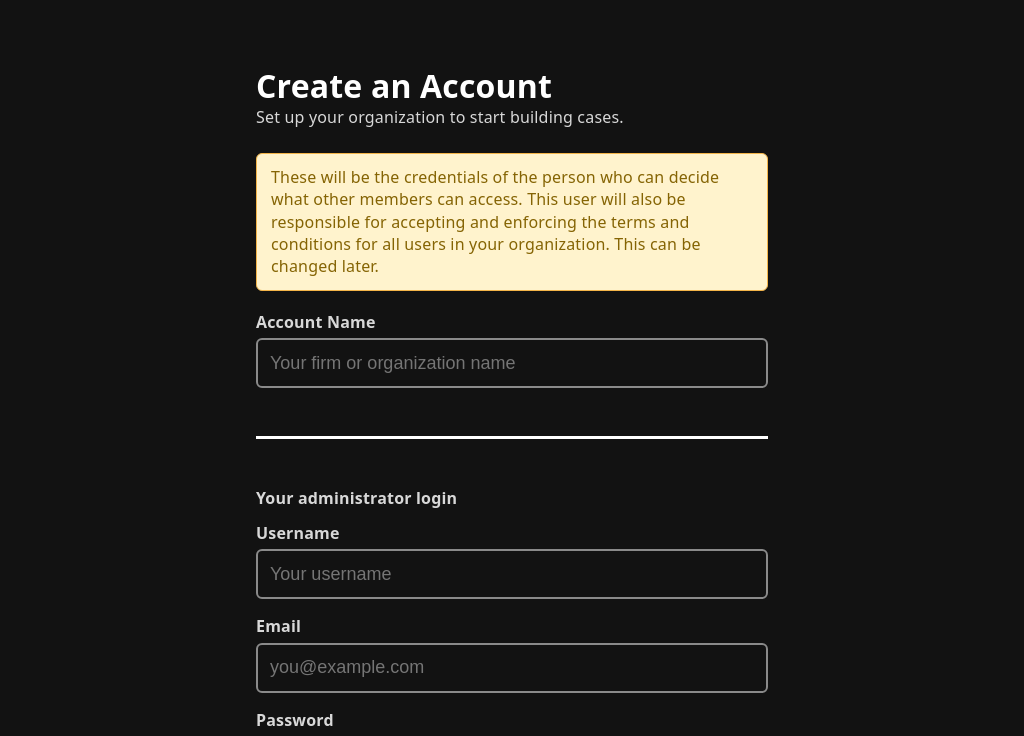
it: RegisterScreen › shows the terms before creating anything
Type "Cortes Law" into the field labelled "Account Name".
click(512, 363); type("Cortes Law")  # box [256,338,768,388]
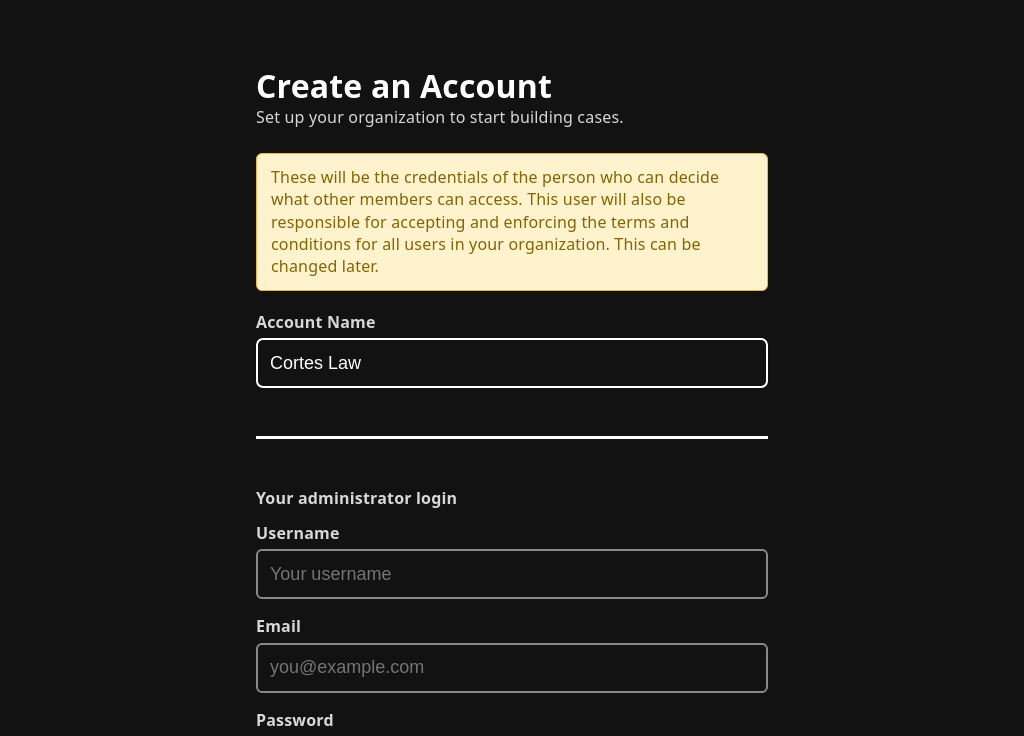
Type "founder" into the field labelled "Username".
click(512, 574); type("founder")  # box [256,549,768,599]
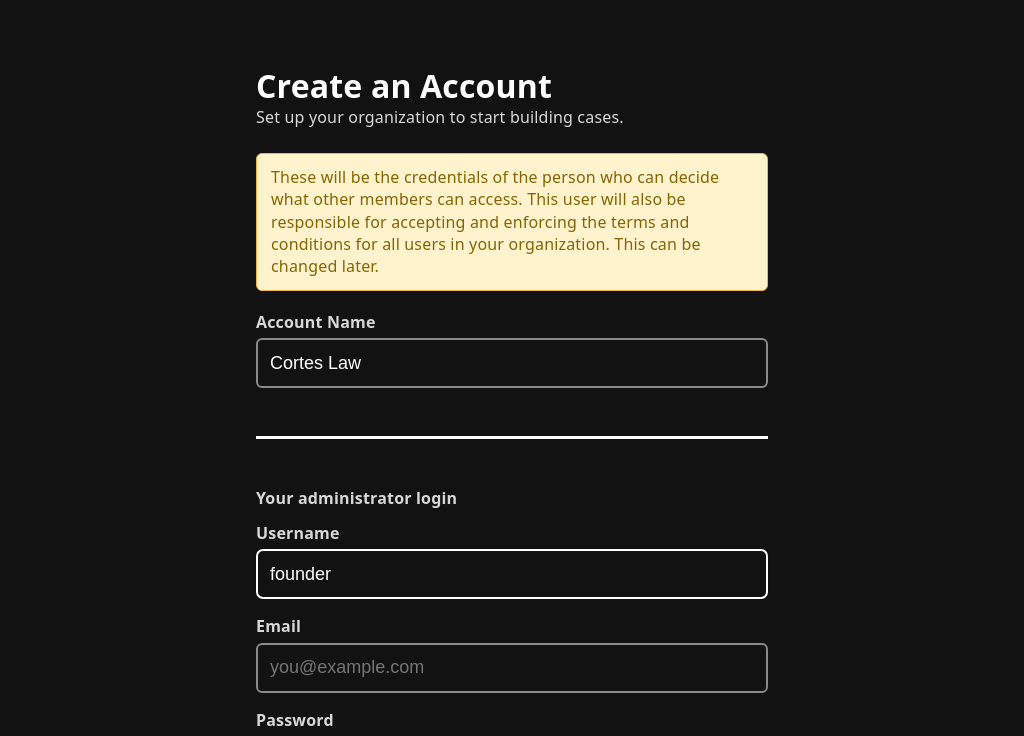
Type "founder@example.com" into the field labelled "Email".
click(512, 668); type("founder@example.com")  # box [256,643,768,693]
(page scrolled)
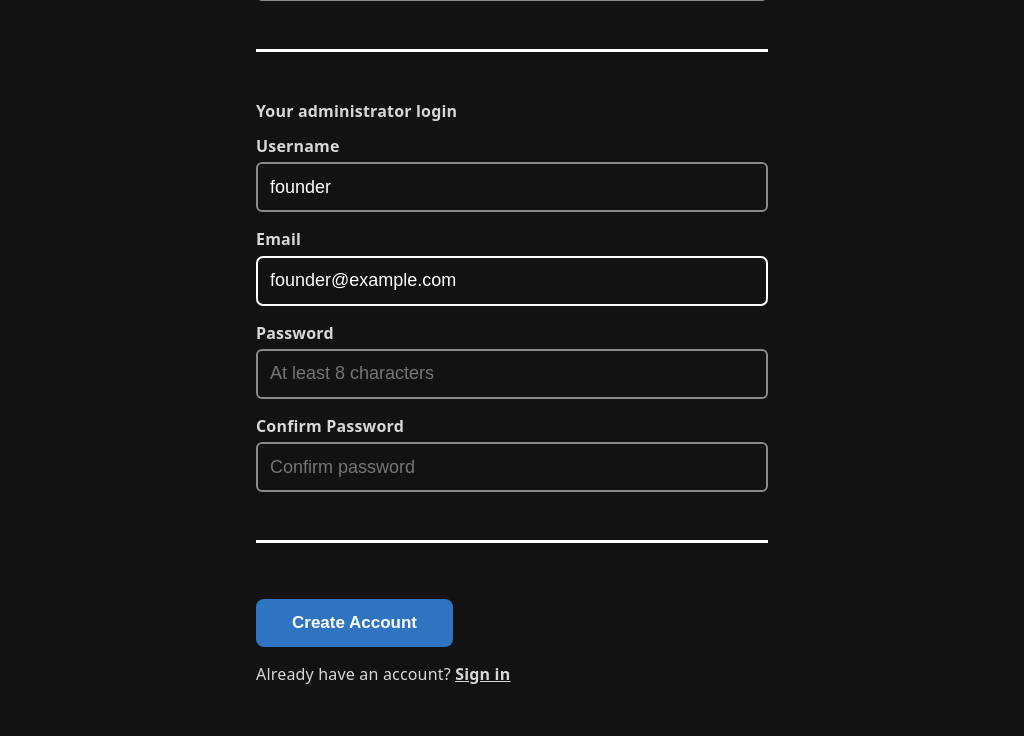
Type "founder-pass" into the password field labelled "Password".
click(512, 374); type("founder-pass")  # box [256,349,768,399]
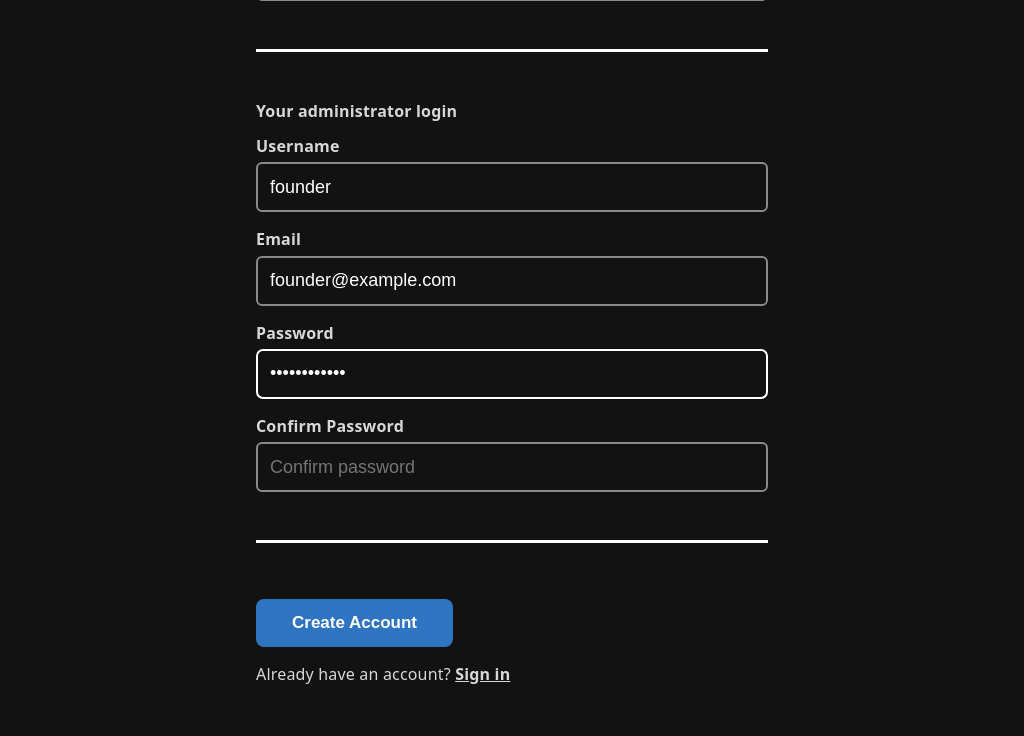
Type "founder-pass" into the password field labelled "Confirm Password".
click(512, 467); type("founder-pass")  # box [256,442,768,492]
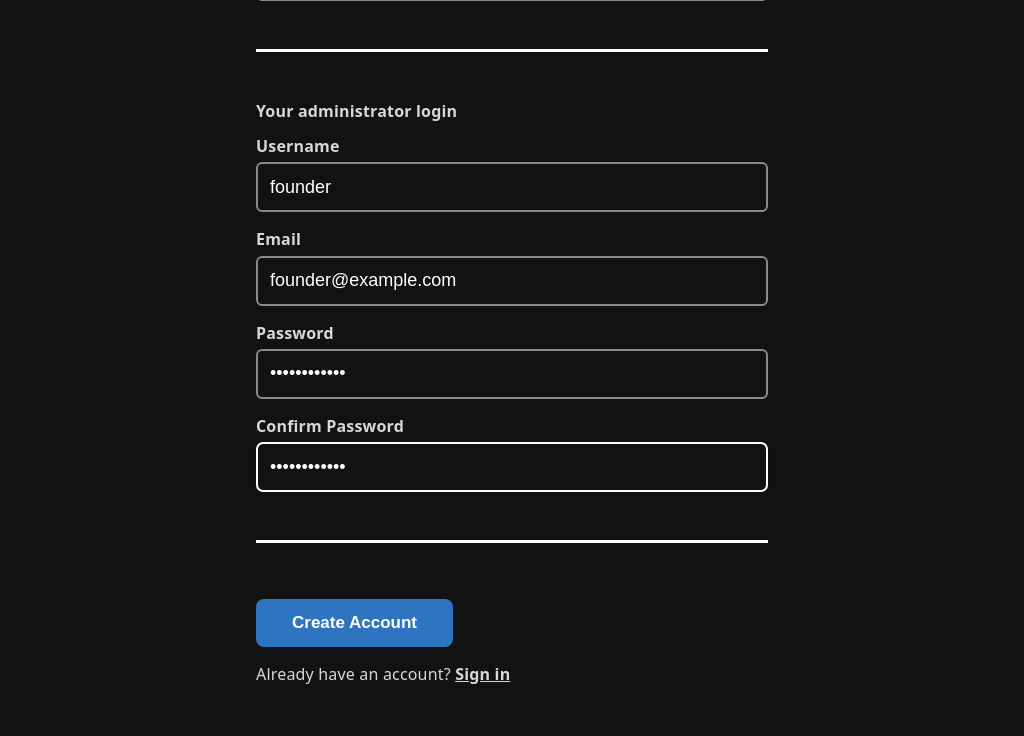
Click the button "Create Account".
click(354, 623)  # box [256,599,453,647]
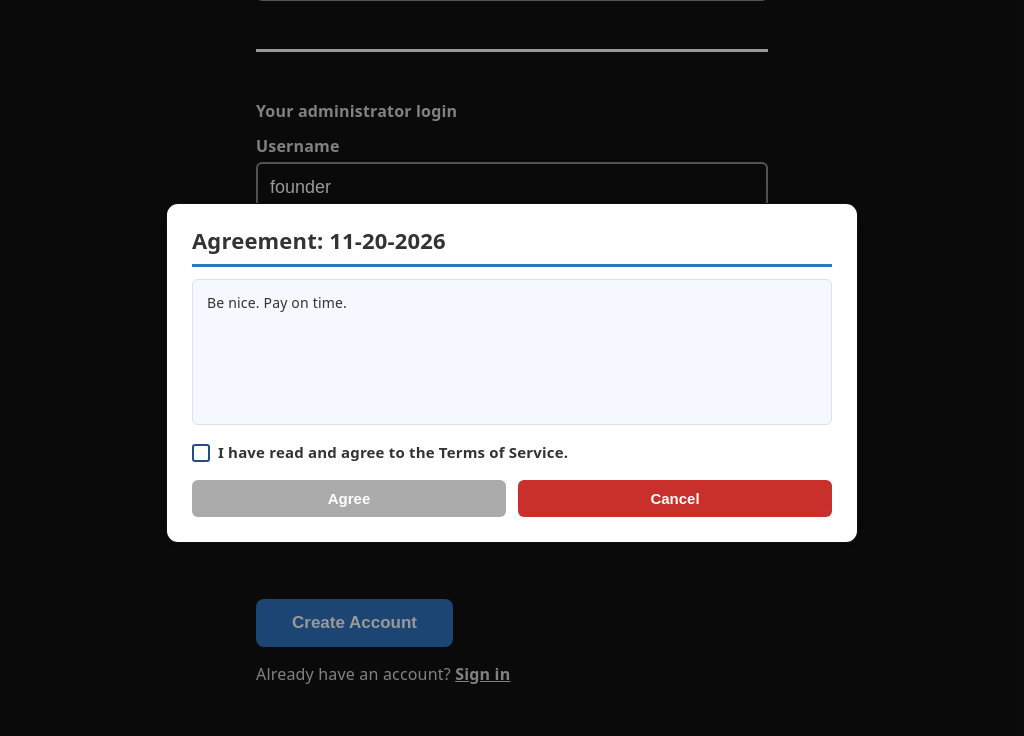
Result: the dialog is shown at [168,205,856,541]
Result: the heading "Agreement: 11-20-2026" is shown at [192,229,832,267]
Result: the checkbox labelled "I have read and agree to the Terms of Service." is not checked at [192,444,210,462]
